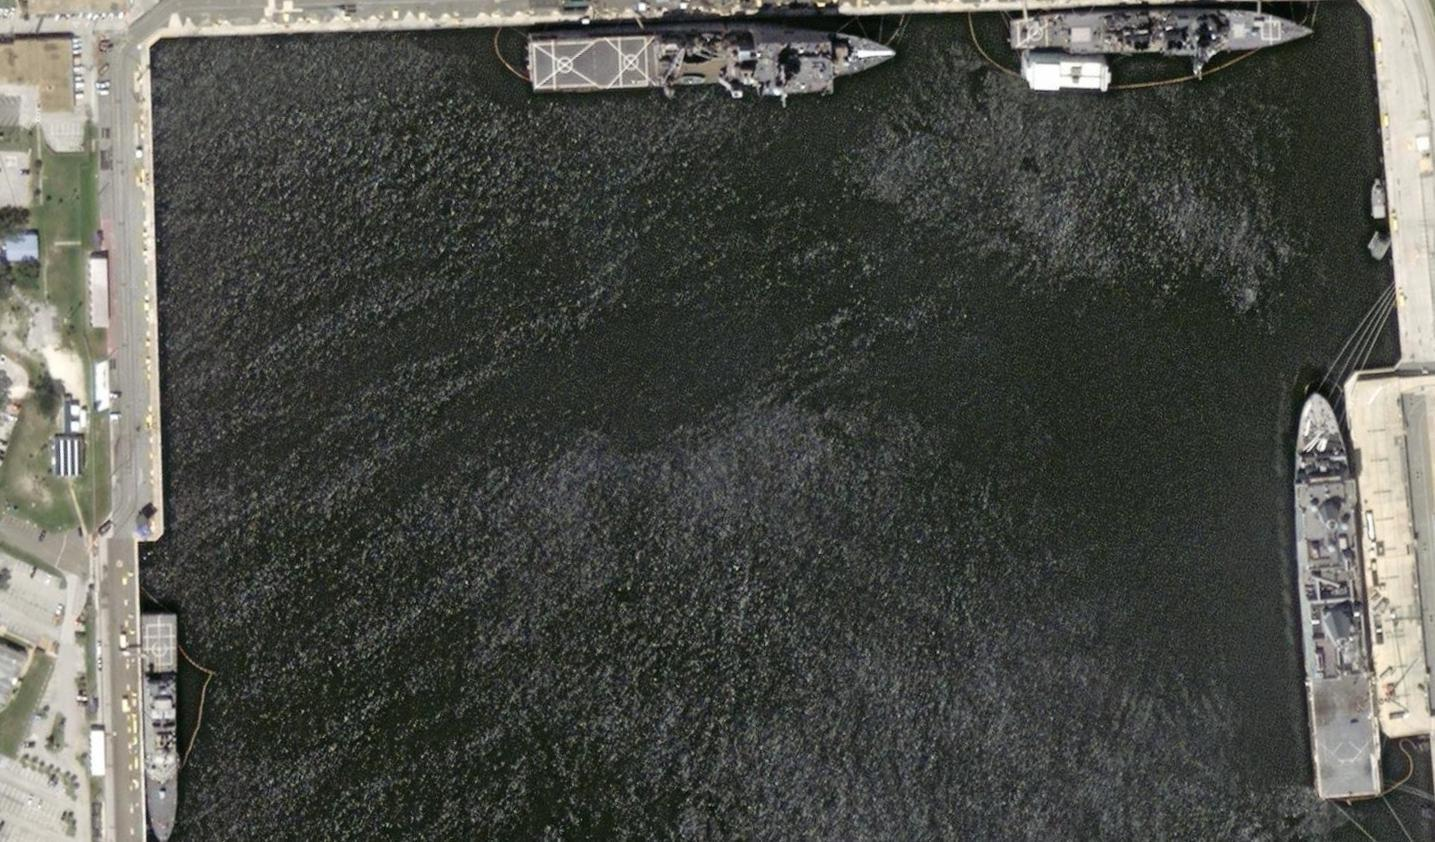amphiby: (1266, 368, 1394, 814), (501, 12, 899, 108)
fregate: (996, 10, 1318, 66)
